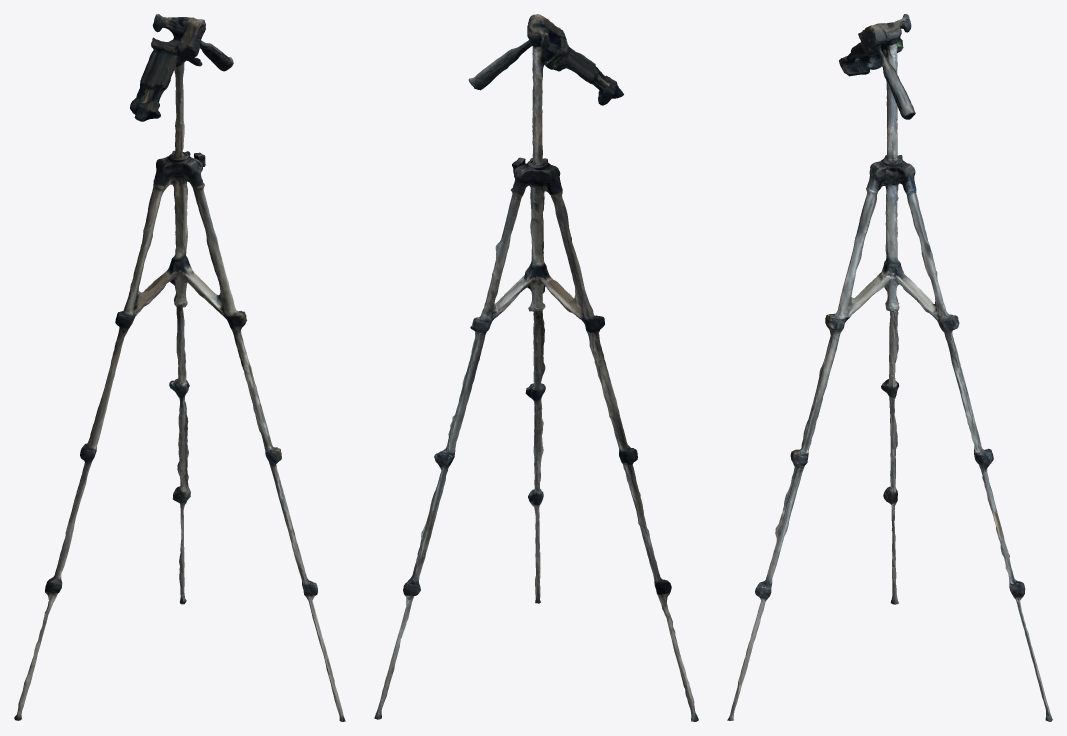
Rendered from tripod.glb.
3 views of the same model, side by side, from view 1: azimuth 30°, elevation 25°; view 2: azimuth 150°, elevation 25°; view 3: azimuth 270°, elevation 25° (orthographic).
Bounding box in the file's own units: 0.4133 × 1.05 × 0.4711.
Materials: 1 (1 with a texture image).
